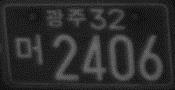0: (108, 34, 136, 81)
2: (51, 33, 80, 82), (107, 6, 126, 32)
3: (89, 6, 107, 32)
4: (81, 34, 107, 80)
6: (138, 34, 163, 82)
광주_O: (45, 7, 87, 29)
머: (14, 32, 43, 66)
